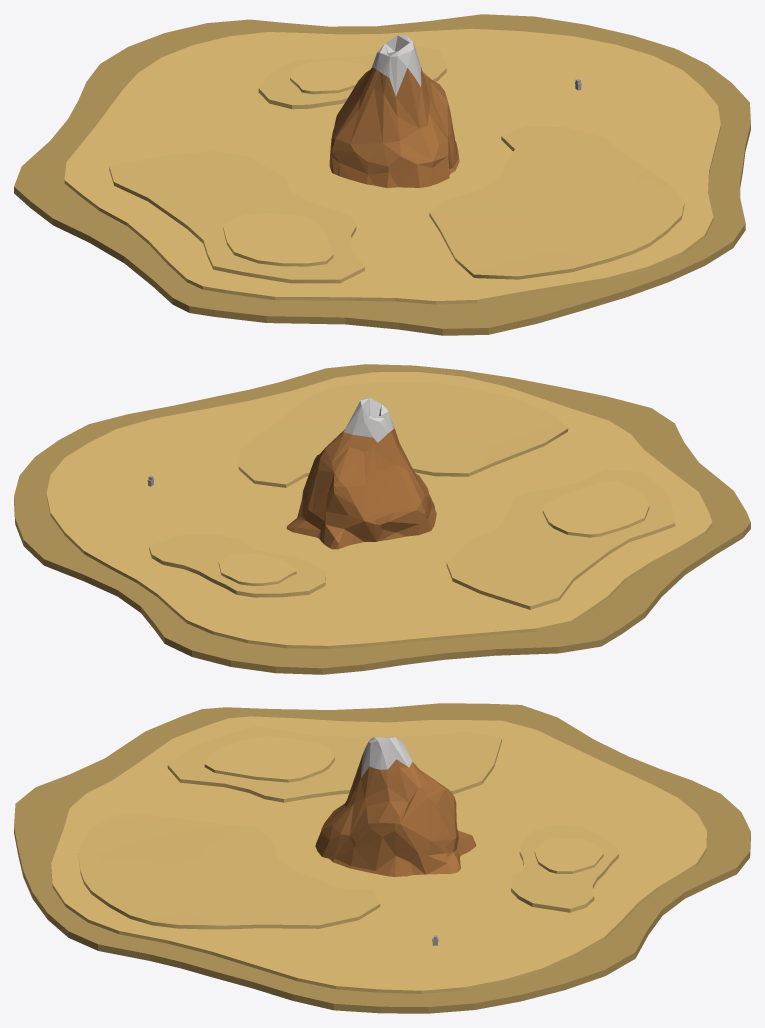
File: Desert1.fbx
3 views of the same model, one above another, from view 1: azimuth 30°, elevation 25°; view 2: azimuth 150°, elevation 25°; view 3: azimuth 270°, elevation 25° (orthographic). The views are drawn at different scales.
Visible parts, largest first — view 1: pDisc4, pDisc2, pDisc5, pDisc3, pasted__huoshan, pDisc7, pDisc6, pDisc8; view 2: pDisc4, pDisc2, pDisc5, pDisc3, pasted__huoshan, pDisc6, pDisc7, pDisc8; view 3: pDisc4, pDisc2, pDisc5, pasted__huoshan, pDisc3, pDisc6, pDisc7, pDisc8.
Part boxes in pixels (x1,y1,x2,y2): pDisc4: (64, 28, 720, 304); pDisc2: (14, 14, 750, 335); pDisc5: (429, 126, 684, 279); pDisc3: (109, 151, 364, 283); pasted__huoshan: (329, 35, 459, 188); pDisc7: (223, 213, 333, 266); pDisc6: (258, 47, 446, 109); pDisc8: (290, 60, 369, 94); pDisc4: (46, 372, 712, 649); pDisc2: (14, 364, 750, 674); pDisc5: (238, 382, 568, 487); pDisc3: (446, 469, 675, 609); pasted__huoshan: (286, 398, 436, 549); pDisc6: (149, 534, 325, 597); pDisc7: (542, 481, 649, 537); pDisc8: (218, 554, 296, 585); pDisc4: (51, 716, 706, 993); pDisc2: (14, 703, 750, 1013); pDisc5: (78, 814, 380, 929); pasted__huoshan: (315, 737, 476, 876); pDisc3: (167, 726, 501, 802); pDisc6: (511, 825, 618, 912); pDisc7: (204, 736, 334, 782); pDisc8: (534, 837, 603, 873).
Size of the model in its own units: 98.54 by 19.27 by 101.
